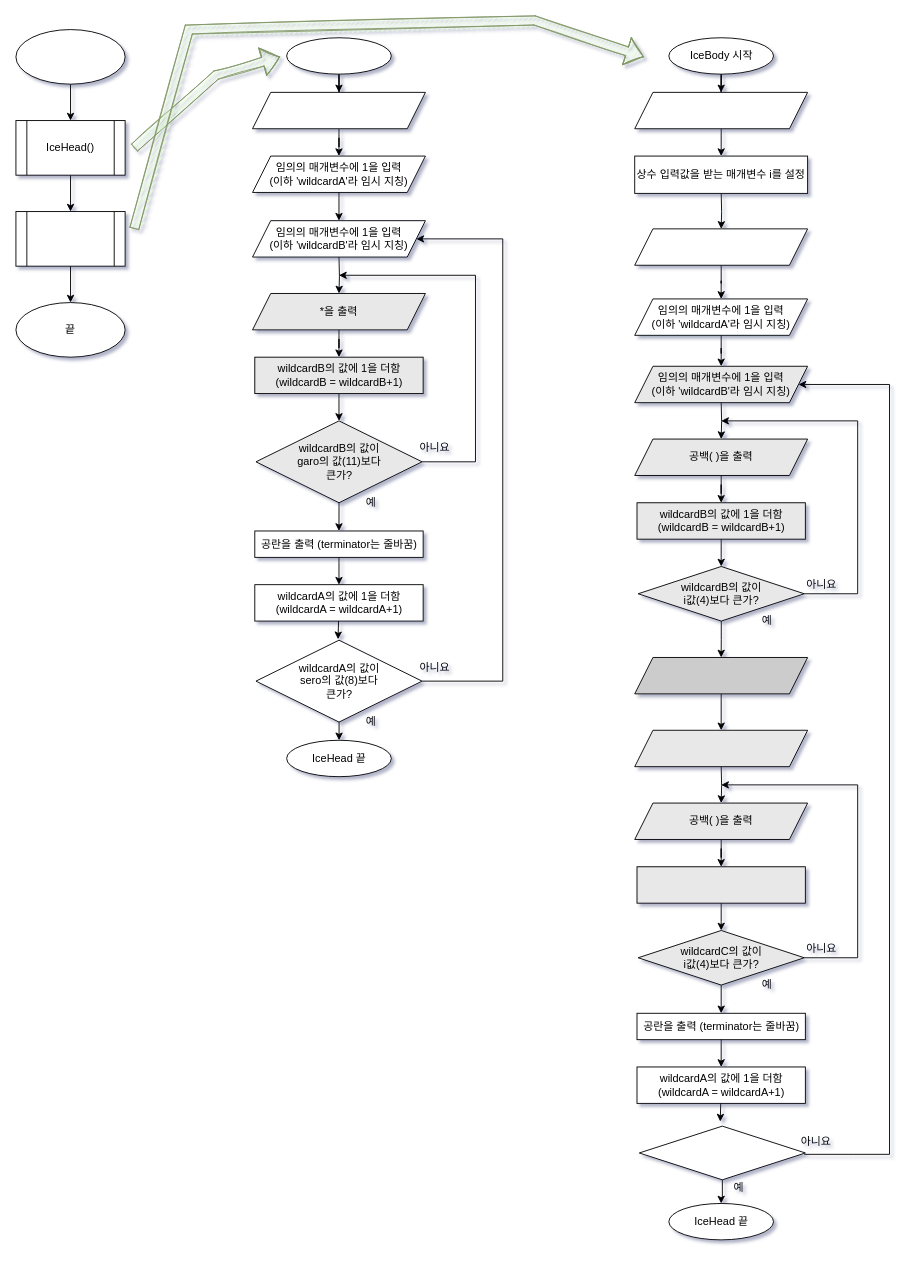
The diagram is 918 pixels wide and 1262 high, and some of its shapes have lost their labels. The centre of each missing label's shape, as x and y in pixels:
IceBody(): point (70, 238)
IceHead 시작: point (338, 55)
wildcardA의 값이 4보다 큰가?: point (721, 1152)
wildcardC의 값에 1을 더함 (wildcardC = wildcardC+1): point (720, 884)
| |을 출력: point (721, 675)
매개변수 garo에 11을 입력: point (721, 110)
매개변수 garo에 11을 입력 매개변수 sero에 8을 입력: point (338, 110)
매개변수 i에 (garo의 입력값(11) －3) ÷ 2의 몫(4)을 입력: point (721, 246)
시작: point (70, 56)
임의의 매개변수에 1을 입력 (이하 'wildcardC'라 임시 지칭): point (721, 748)
